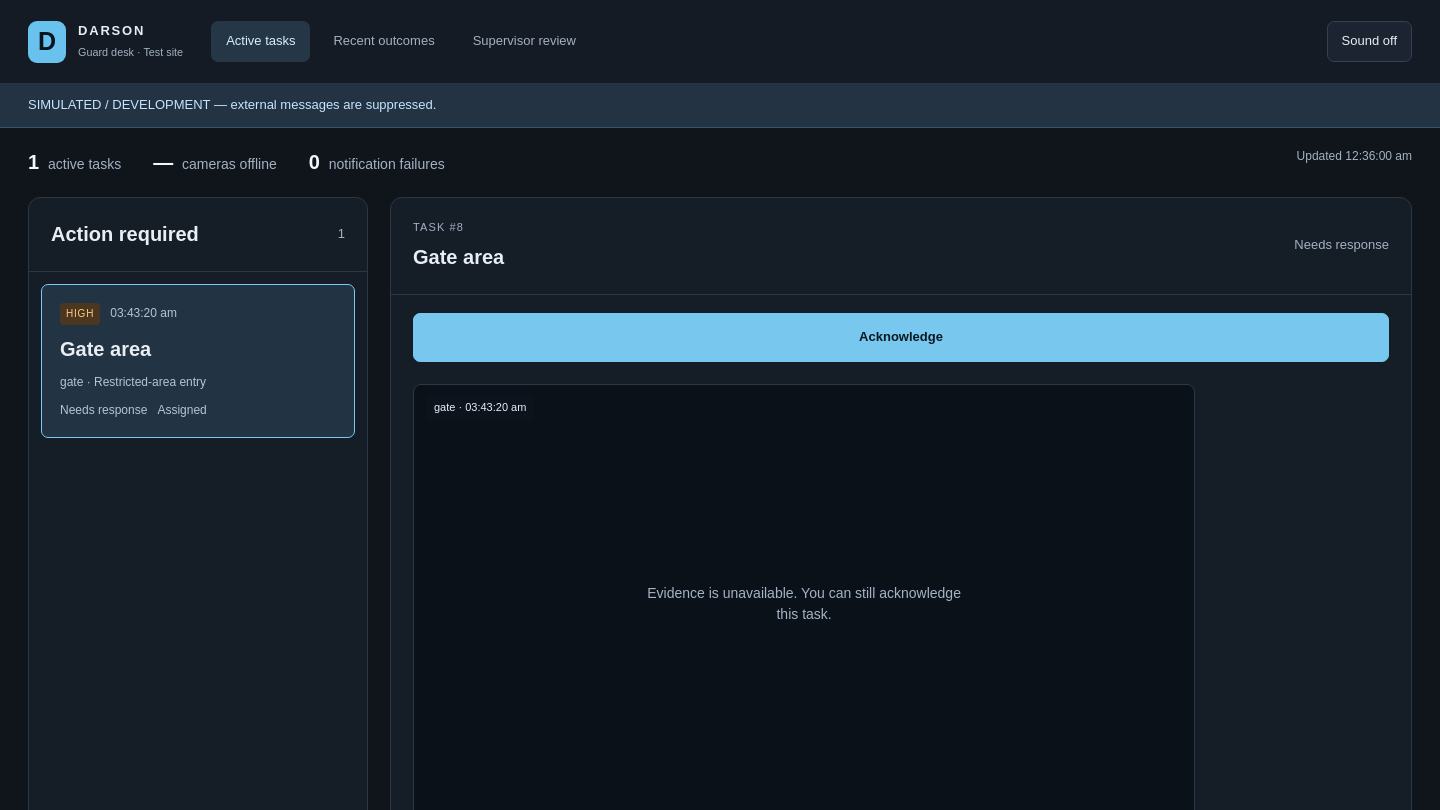
guard desk › refreshes and explains a stale action instead of reporting success
Click the button "Acknowledge" at (901, 337), box [413,313,1389,362]
(page scrolled)
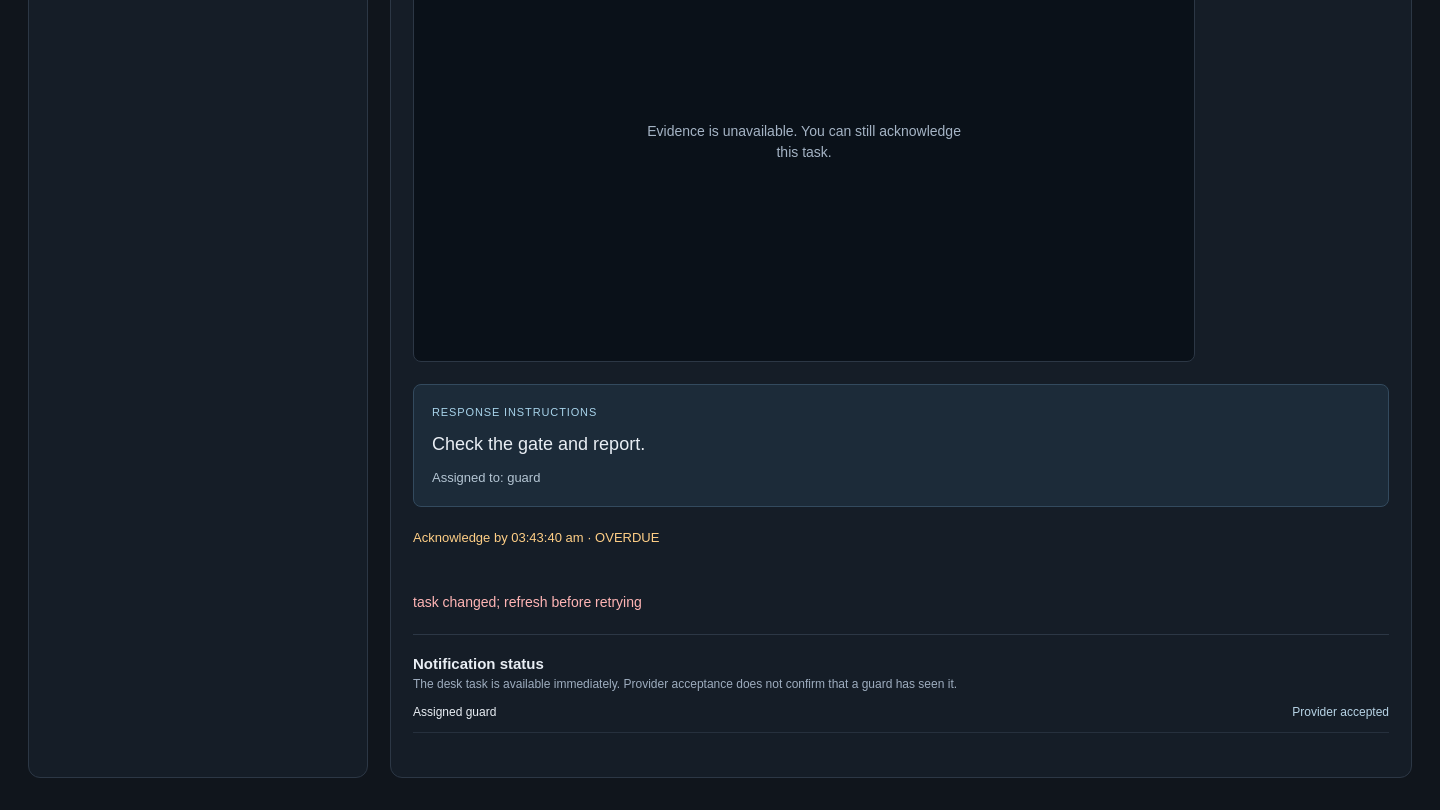
Check: the text "task changed; refresh before retrying" is shown, box [413,594,642,610]
